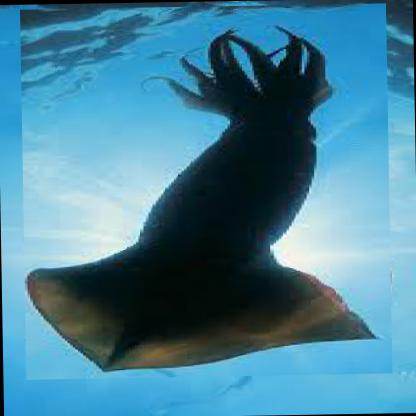colossal_squid: (20, 1, 392, 378)
